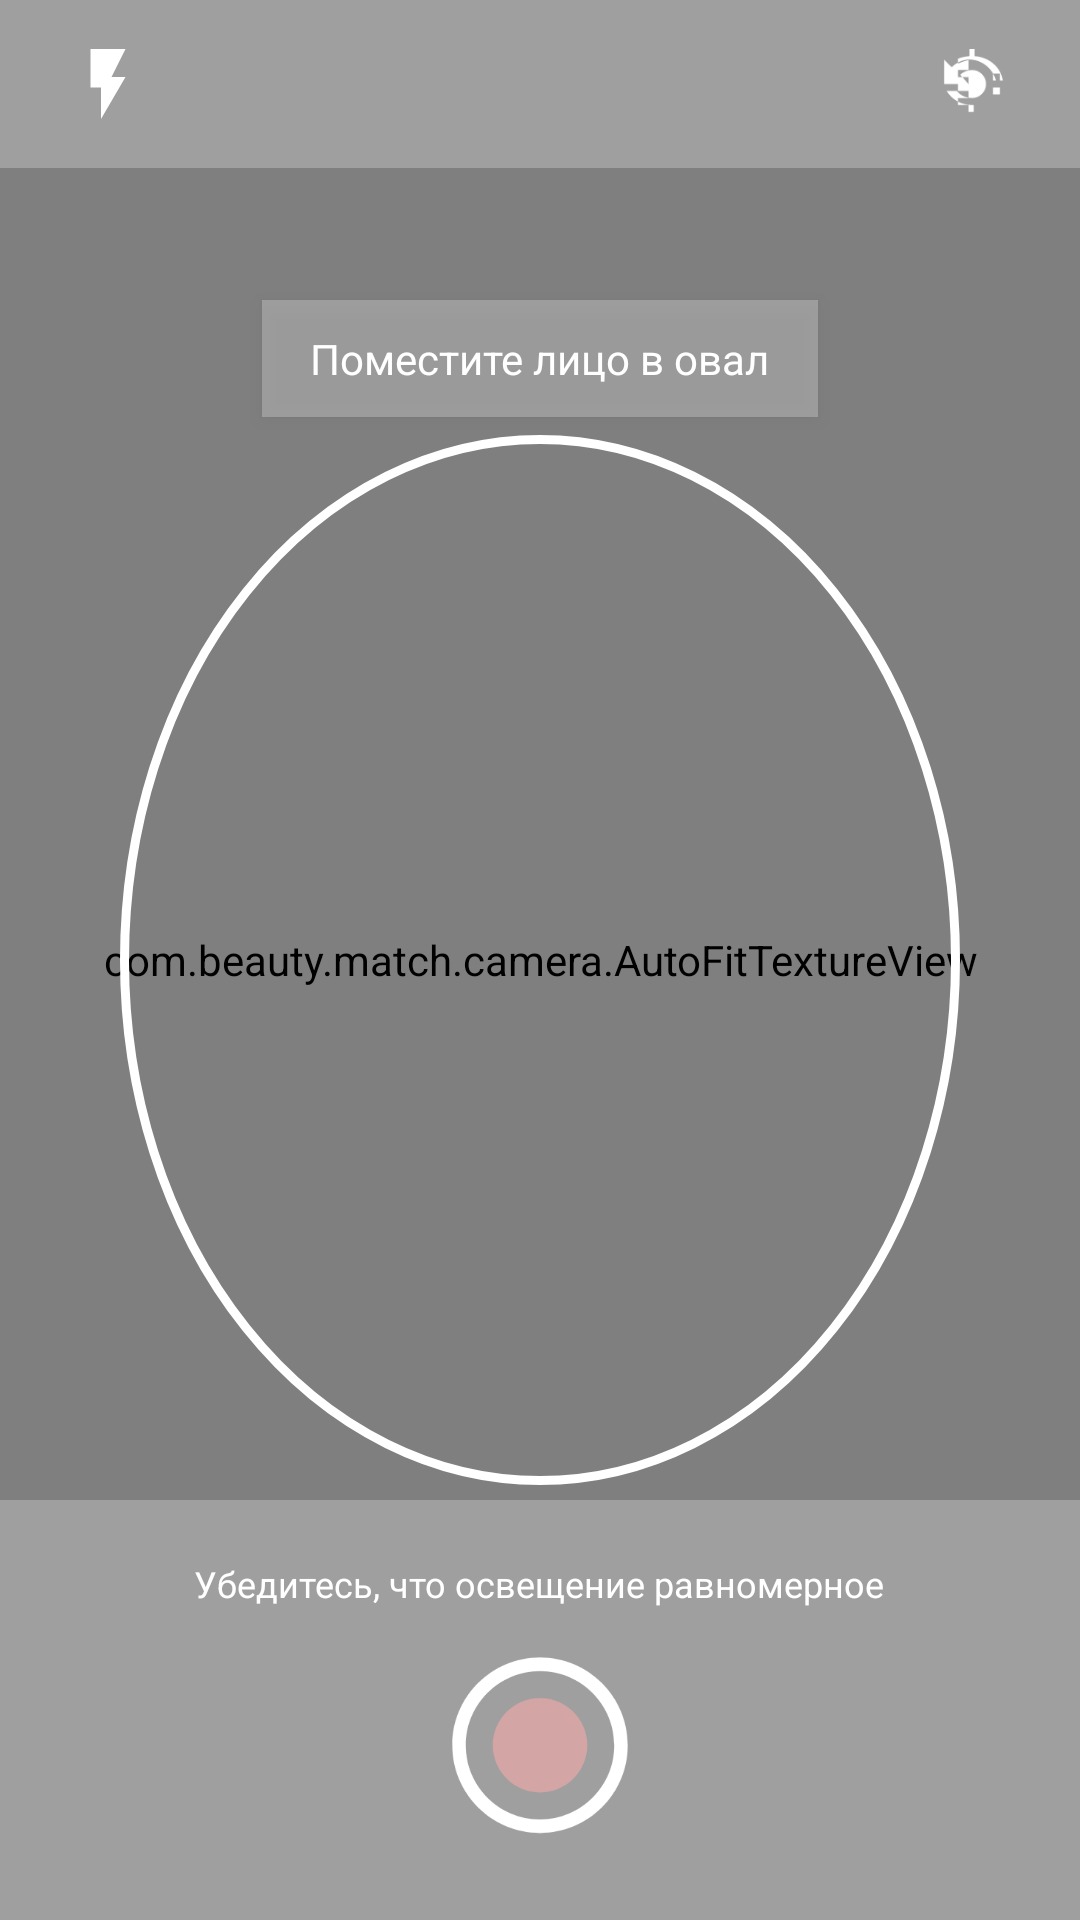

Point at icon controls on the screen. Image size 1080 x 1920, points as point (x, y).
flash on: point (107, 84)
flip camera: point (973, 80)
shutter: point (540, 1745)
